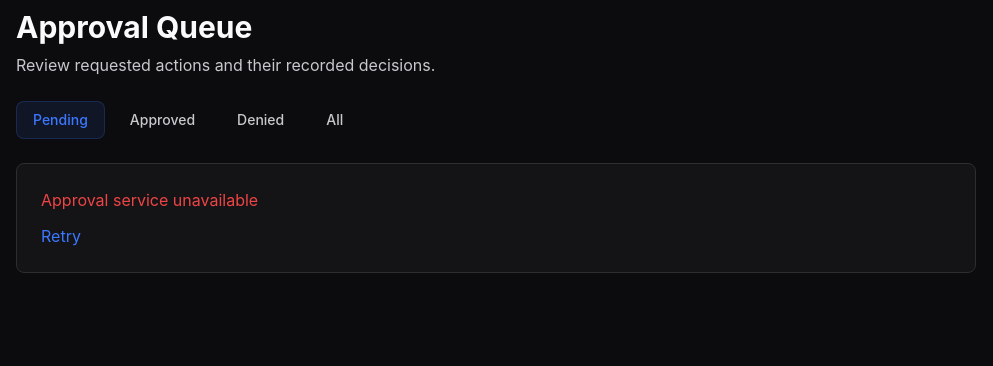
shows request failure instead of claiming no approvals and can retry
The image size is (993, 366).
Expected: the message reads "Approval service unavailable", top-left (41, 190), bottom-right (258, 210)
Expected: the text "No pending approvals" is not shown
Click the button "Retry": click(61, 236) top-left (41, 224), bottom-right (81, 248)
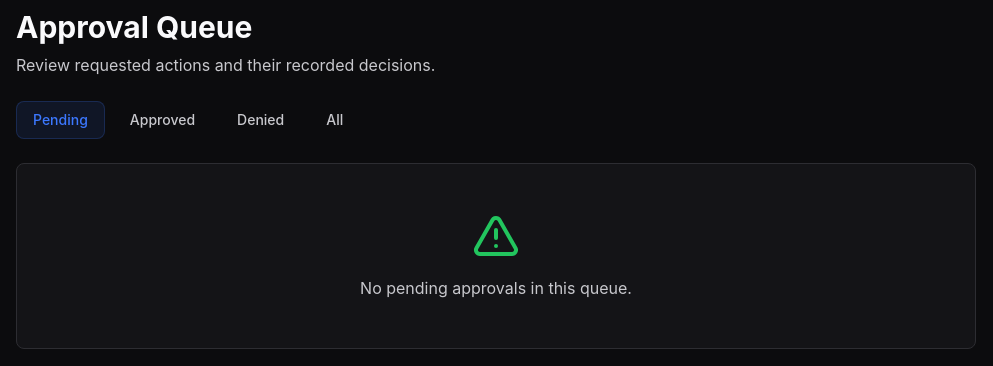
Now the text "No pending approvals in this queue." is shown, box top-left (360, 278), bottom-right (632, 298)
